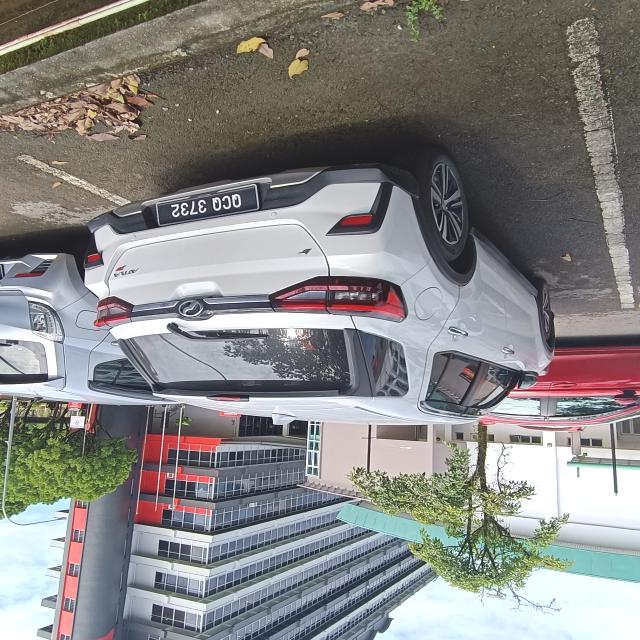PeroduaAtiva: (82, 146, 558, 428)
